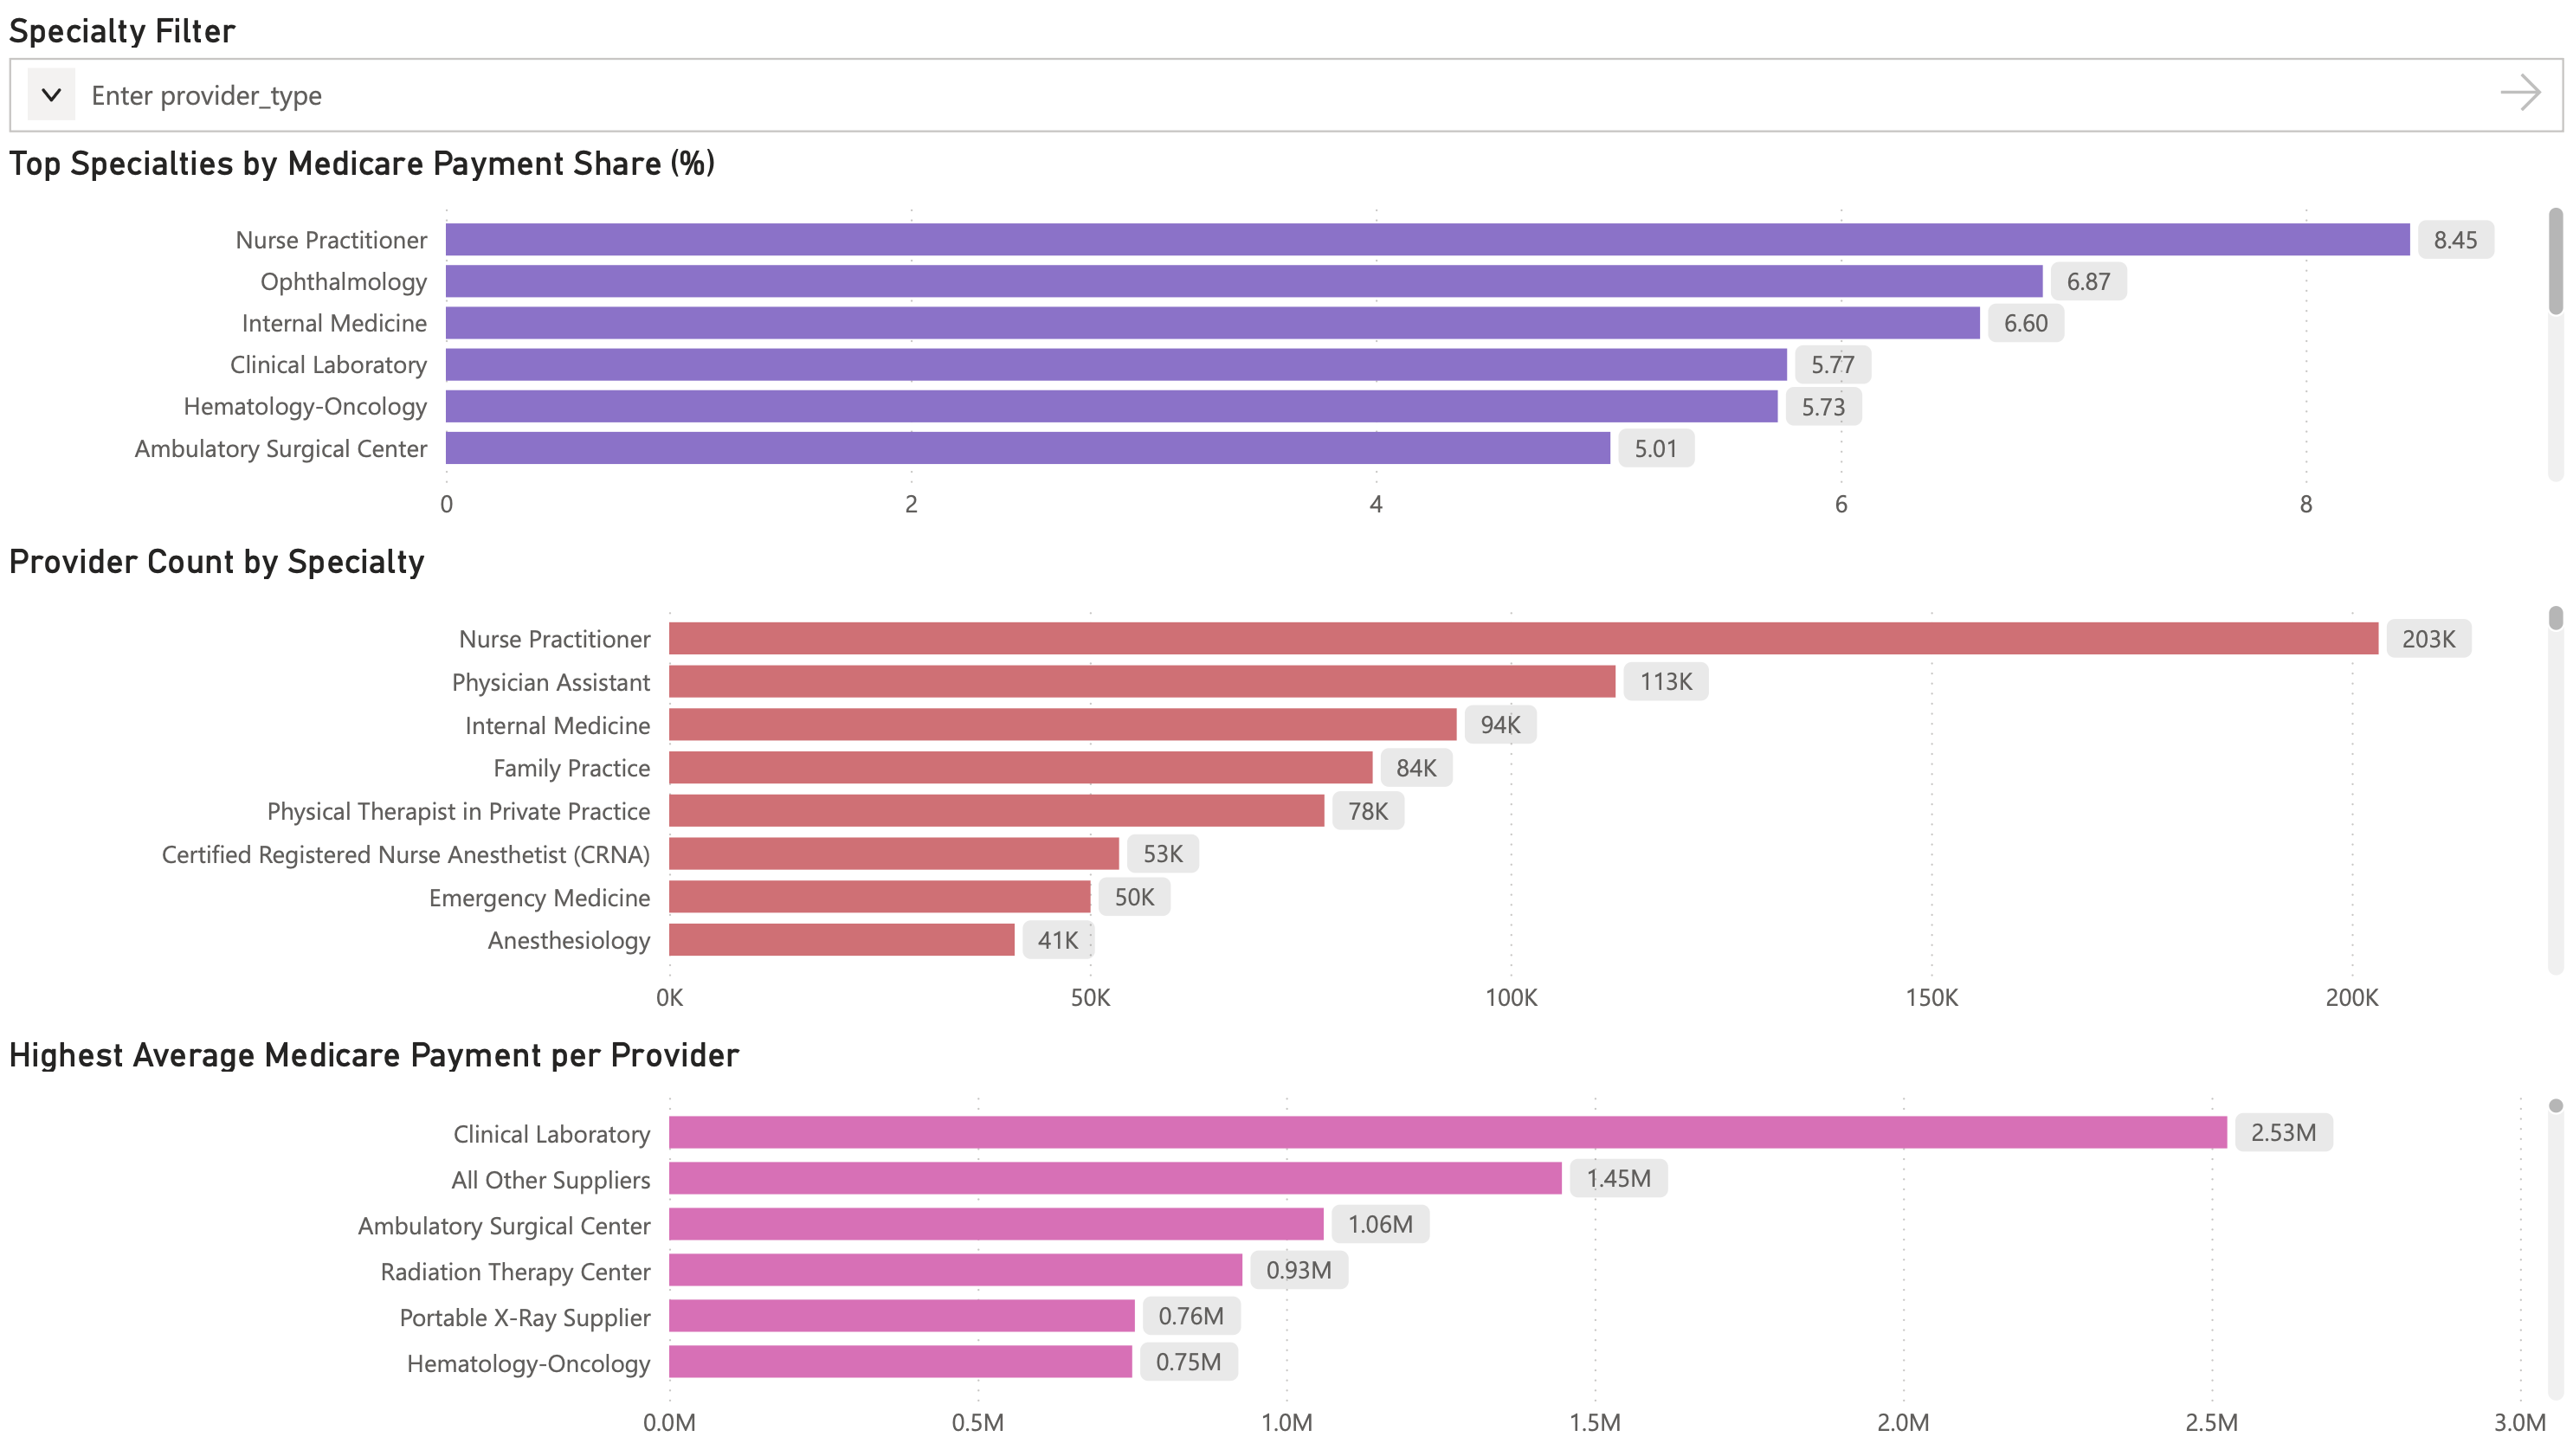

This screenshot's page, from the dashboard's own definition file:
{"tool":"powerbi","page":{"name":"Provider Performance Analysis","canvas":[1280,720],"ordinal":1},"visuals":[{"type":"clusteredBarChart","title":"Top Specialties by Medicare Payment Share (%)","fields":{"Category":["specialty_performance.provider_type"],"Y":["Sum(specialty_performance.payment_share_pct)"]},"box":[0,65.9,1280,197.8],"z":0},{"type":"clusteredBarChart","title":"Provider Count by Specialty","fields":{"Category":["specialty_performance.provider_type"],"Y":["Sum(specialty_performance.provider_count)"]},"box":[0,263.7,1280,245.1],"z":1},{"type":"clusteredBarChart","title":"Highest Average Medicare Payment per Provider","fields":{"Category":["specialty_performance.provider_type"],"Y":["Sum(specialty_performance.avg_payment)"]},"box":[0,508.8,1280,211.5],"z":2},{"type":"textSlicer","title":"Specialty Filter","fields":{"Values":["specialty_performance.provider_type"]},"box":[0,0,1280,65.9],"z":3}]}

Visuals, with their boxes in screenshot pixels (x1, y1, x2, y2), scaled from the page's 1280x720 canvas onto the 2573x1456 screenshot:
"Top Specialties by Medicare Payment Share (%)" clusteredBarChart: <region>0, 133, 2572, 533</region>
"Provider Count by Specialty" clusteredBarChart: <region>0, 533, 2572, 1029</region>
"Highest Average Medicare Payment per Provider" clusteredBarChart: <region>0, 1029, 2572, 1455</region>
"Specialty Filter" textSlicer: <region>0, 0, 2572, 133</region>
